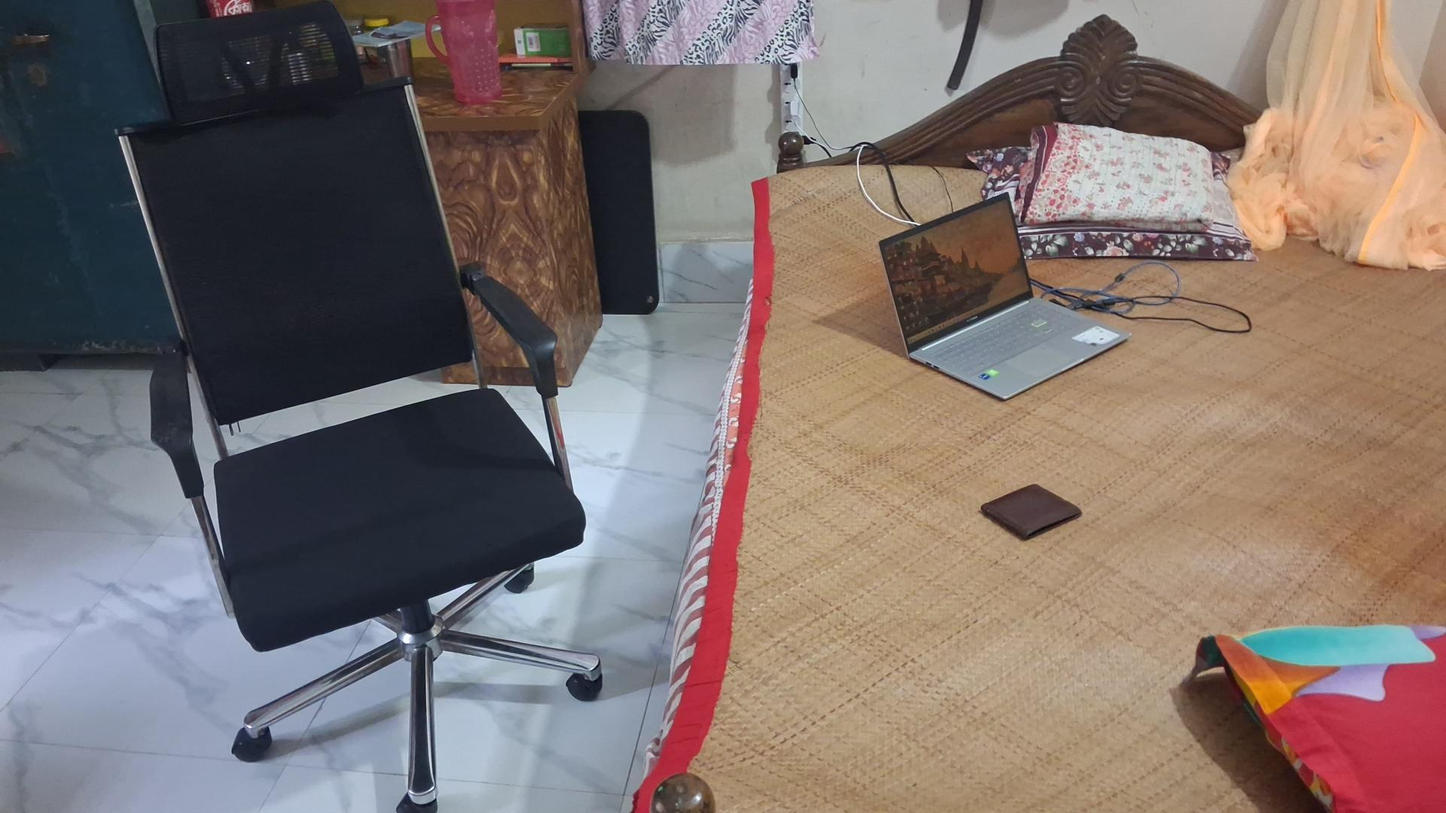Blanket: (1016, 123, 1213, 231)
Box: (513, 25, 573, 57)
Chair: (119, 70, 604, 797)
Glass: (384, 39, 416, 80)
Jug: (425, 1, 504, 106)
Laptop: (878, 191, 1131, 402)
Moneybag: (980, 483, 1081, 542)
Notebook: (348, 22, 441, 47)
